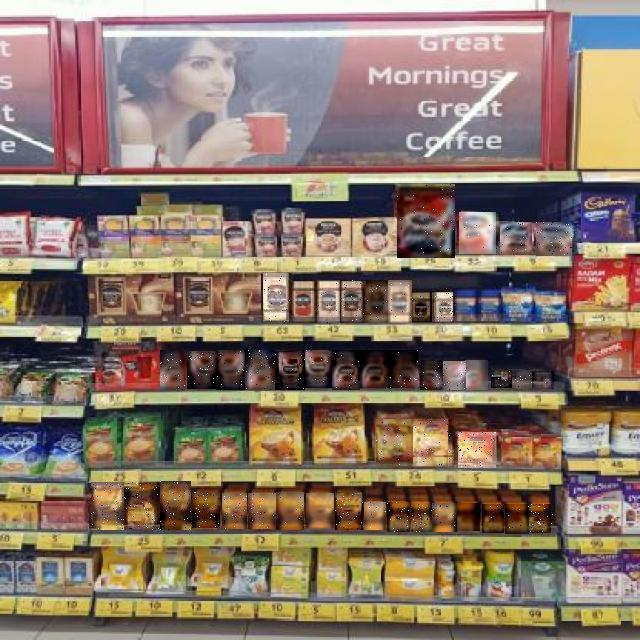Coffee: (397, 184, 455, 258), (414, 419, 452, 467), (376, 420, 413, 466), (124, 482, 159, 530), (460, 212, 498, 254), (91, 482, 124, 530), (160, 481, 191, 530), (264, 274, 292, 324), (458, 432, 496, 468), (216, 350, 247, 390), (536, 222, 572, 256), (275, 350, 305, 390), (245, 350, 275, 390), (302, 350, 333, 388), (360, 350, 391, 388), (187, 351, 218, 389), (332, 350, 360, 390), (276, 493, 304, 531), (306, 494, 334, 532), (335, 493, 363, 531), (391, 350, 419, 388), (500, 222, 532, 255), (340, 280, 365, 322), (160, 350, 186, 390), (388, 280, 412, 323), (192, 492, 220, 528), (249, 493, 277, 529), (317, 280, 340, 323), (366, 280, 388, 323), (222, 493, 247, 529), (455, 503, 481, 531), (432, 503, 457, 532), (505, 504, 529, 534), (466, 361, 490, 391), (530, 504, 554, 533), (387, 503, 410, 533), (443, 361, 466, 390), (420, 361, 442, 391), (482, 504, 504, 533), (365, 502, 387, 530), (411, 503, 432, 532), (413, 292, 433, 322), (435, 292, 453, 322), (532, 371, 554, 389), (491, 370, 512, 388), (514, 370, 532, 388)
